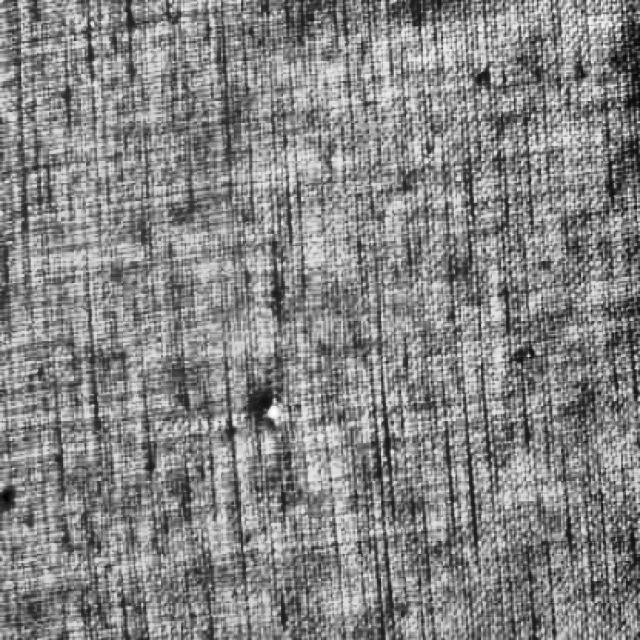hole: (248, 392, 294, 436)
